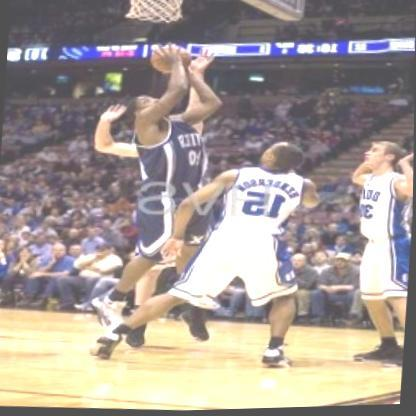basketball: (147, 39, 190, 80)
